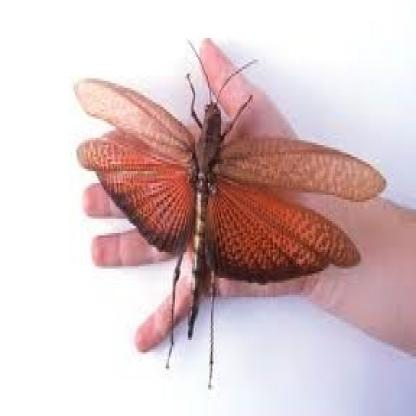grasshopper: (73, 42, 385, 393)
